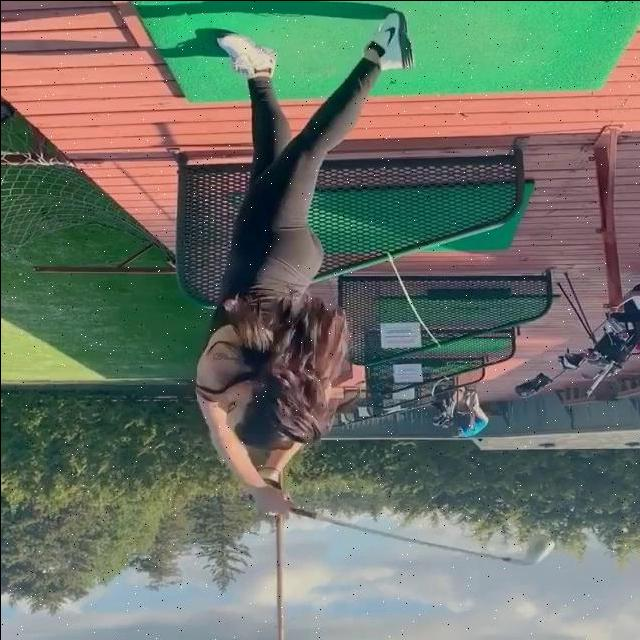golf club-handle: (244, 491, 554, 565)
golf club-head: (520, 536, 554, 566)
